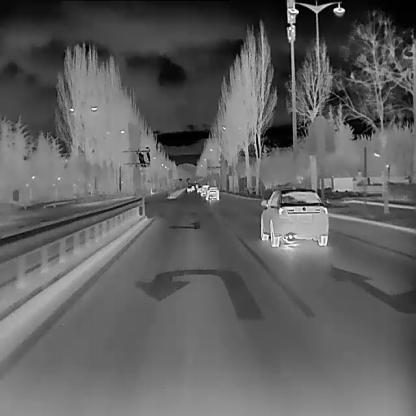car: (259, 187, 329, 247), (204, 185, 219, 201), (199, 184, 209, 195), (186, 184, 192, 191), (196, 184, 200, 192), (191, 184, 194, 190), (194, 180, 196, 182)
